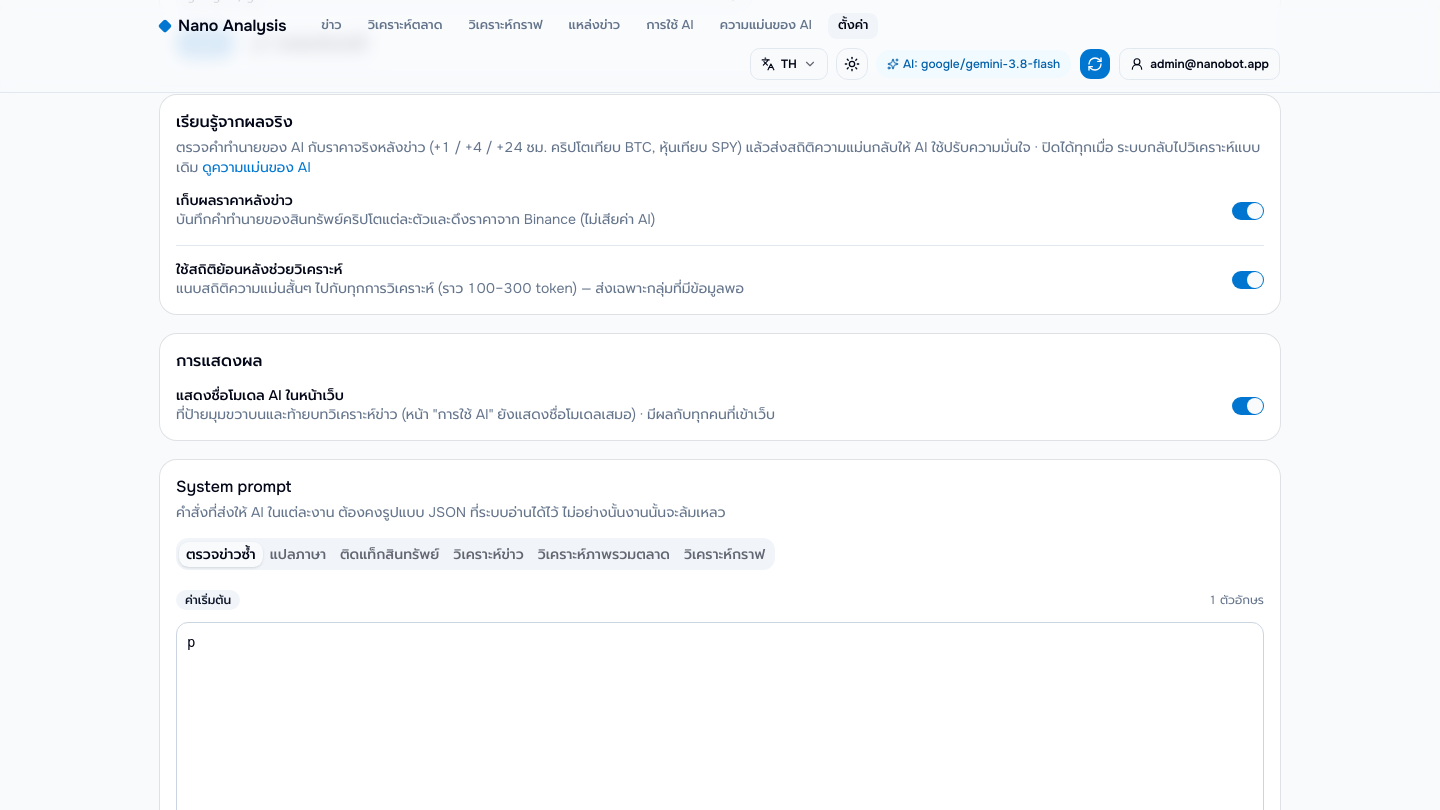
show model name setting › settings switch saves immediately and refreshes the header
(page scrolled)
Step 1. Click the switch named "แสดงชื่อโมเดล AI ในหน้าเว็บ" → (1248, 406), box [1232,397,1264,415]
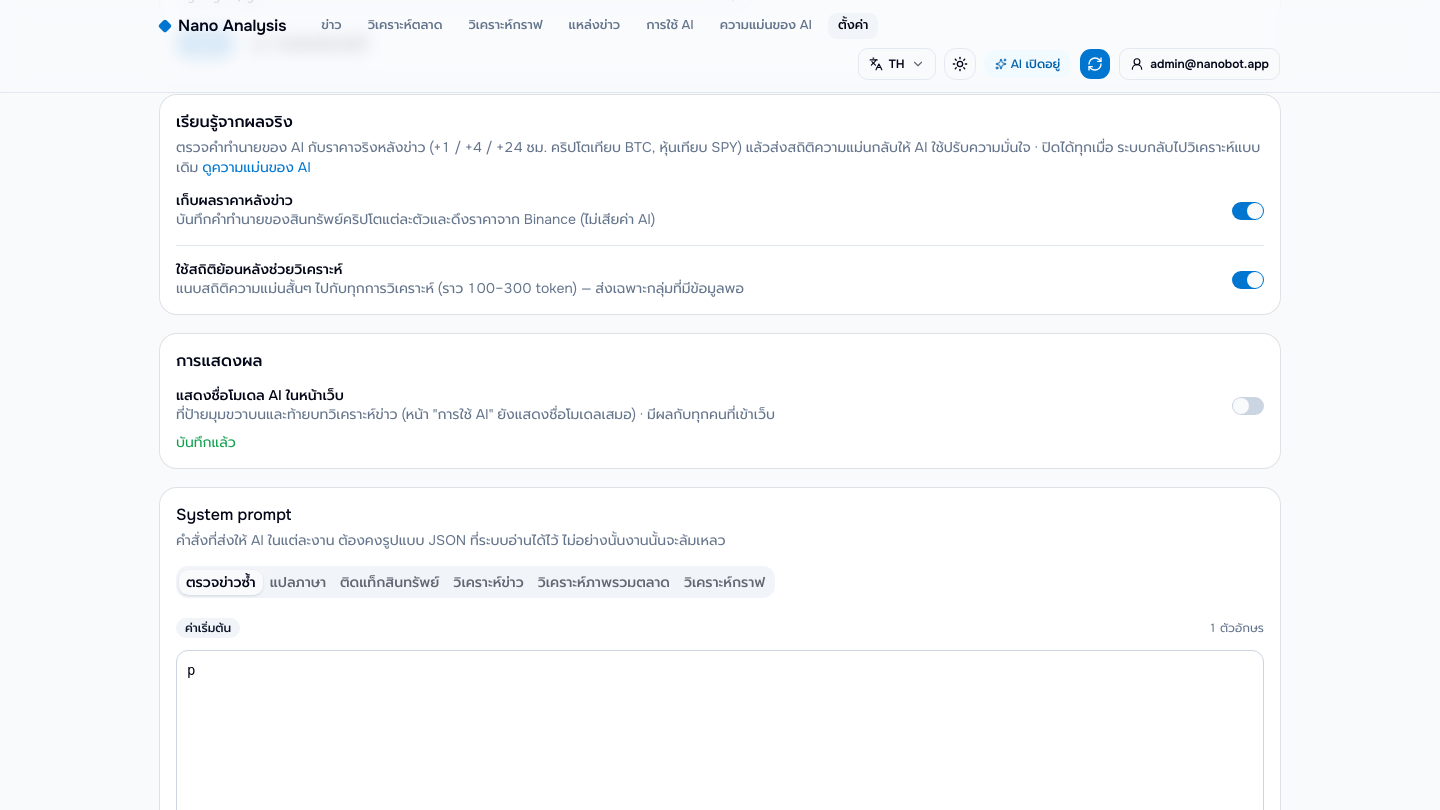
Now the switch named "แสดงชื่อโมเดล AI ในหน้าเว็บ" is not checked, box [1232,397,1264,415]
Now the text "AI เปิดอยู่" is shown, box [984,50,1071,78]
